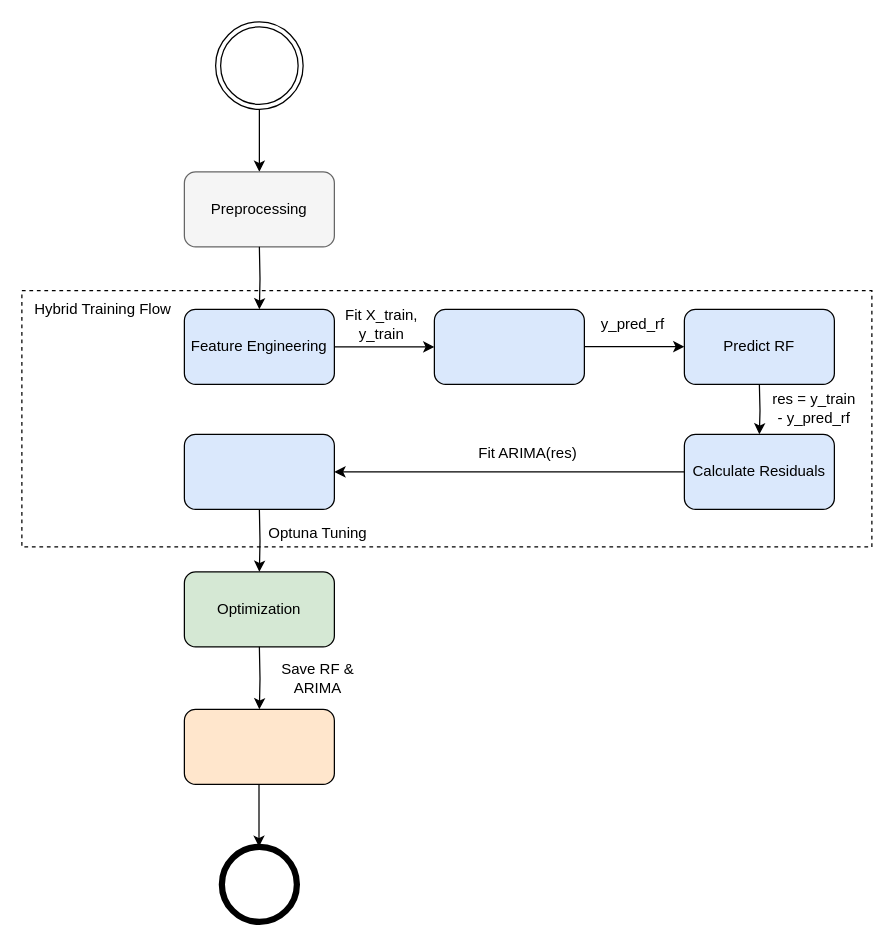
The diagram is 894 pixels wide and 946 high, and some of its shapes have lost their labels. The centre of each missing label's shape, as x and y in pixels:
"Final Model" belongs at point (258, 746).
"Train ARIMA" belongs at point (258, 471).
"Train RF" belongs at point (508, 346).
